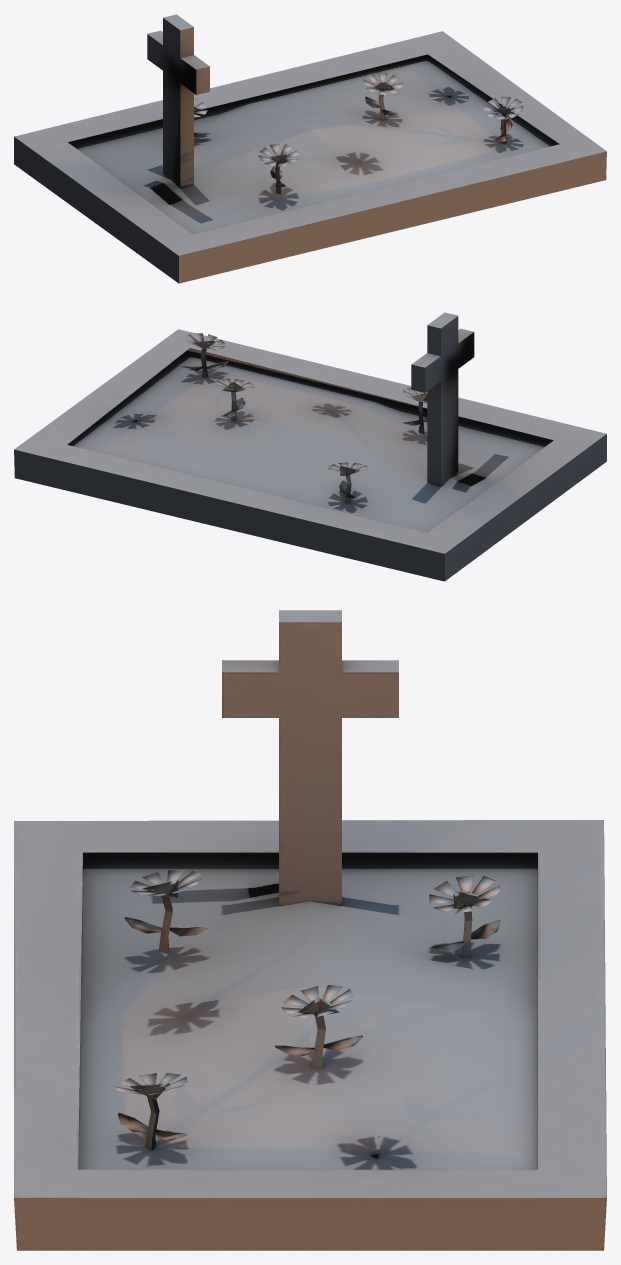
The model's file is 02mid.glb.
3 renders of one model, top to bottom at view 1: azimuth 30°, elevation 25°; view 2: azimuth 150°, elevation 25°; view 3: azimuth 270°, elevation 25°, orthographic. The views are drawn at different scales.
Visible parts, largest first — view 1: Tombe2 LOD Mid; view 2: Tombe2 LOD Mid; view 3: Tombe2 LOD Mid.
Boxes of the visible parts, x1,y1,x2,y2 form: Tombe2 LOD Mid: (14,14,606,283); Tombe2 LOD Mid: (14,312,606,581); Tombe2 LOD Mid: (14,610,606,1250).
Bounding box in the file's own units: 2.14 × 0.8689 × 1.42.
1 material, 1 textured.
